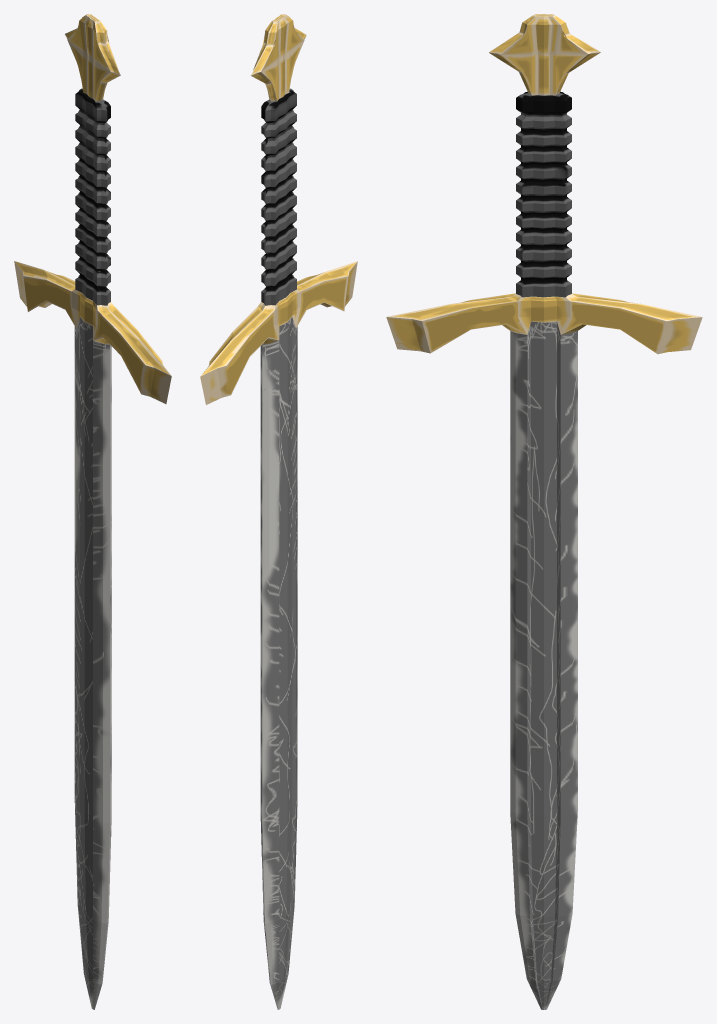
File: espada.fbx
The picture shows the model from 3 angles, left to right: view 1: azimuth 30°, elevation 25°; view 2: azimuth 150°, elevation 25°; view 3: azimuth 270°, elevation 25°; orthographic projection.
Visible parts, largest first — view 1: espada; view 2: espada; view 3: espada.
Part boxes in pixels (x1=…): espada: x1=14, y1=14, x2=171, y2=1009; espada: x1=200, y1=14, x2=357, y2=1009; espada: x1=386, y1=14, x2=702, y2=1009.
Bounding box in the file's own units: 2.75 × 152 × 43.73.
1 material, 1 textured.
